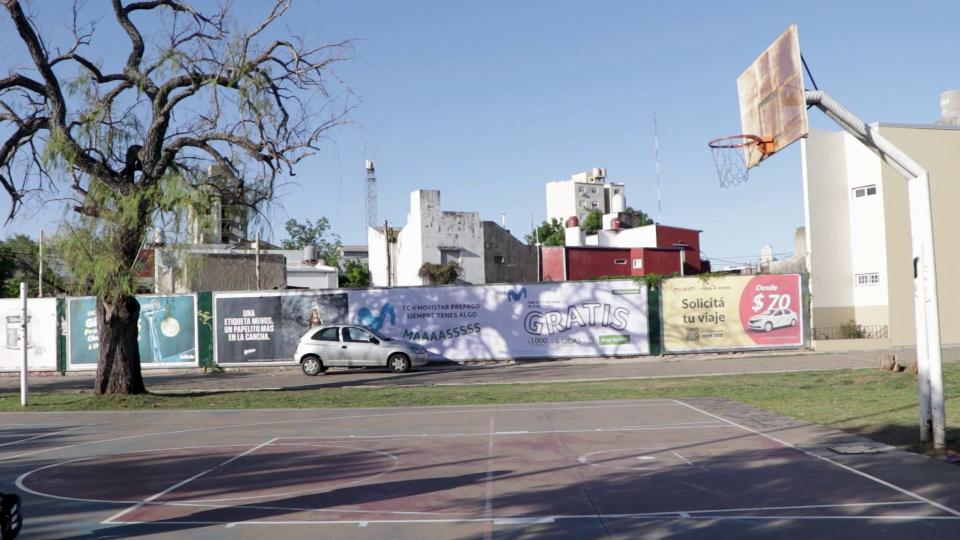hoop: (706, 135, 782, 160)
